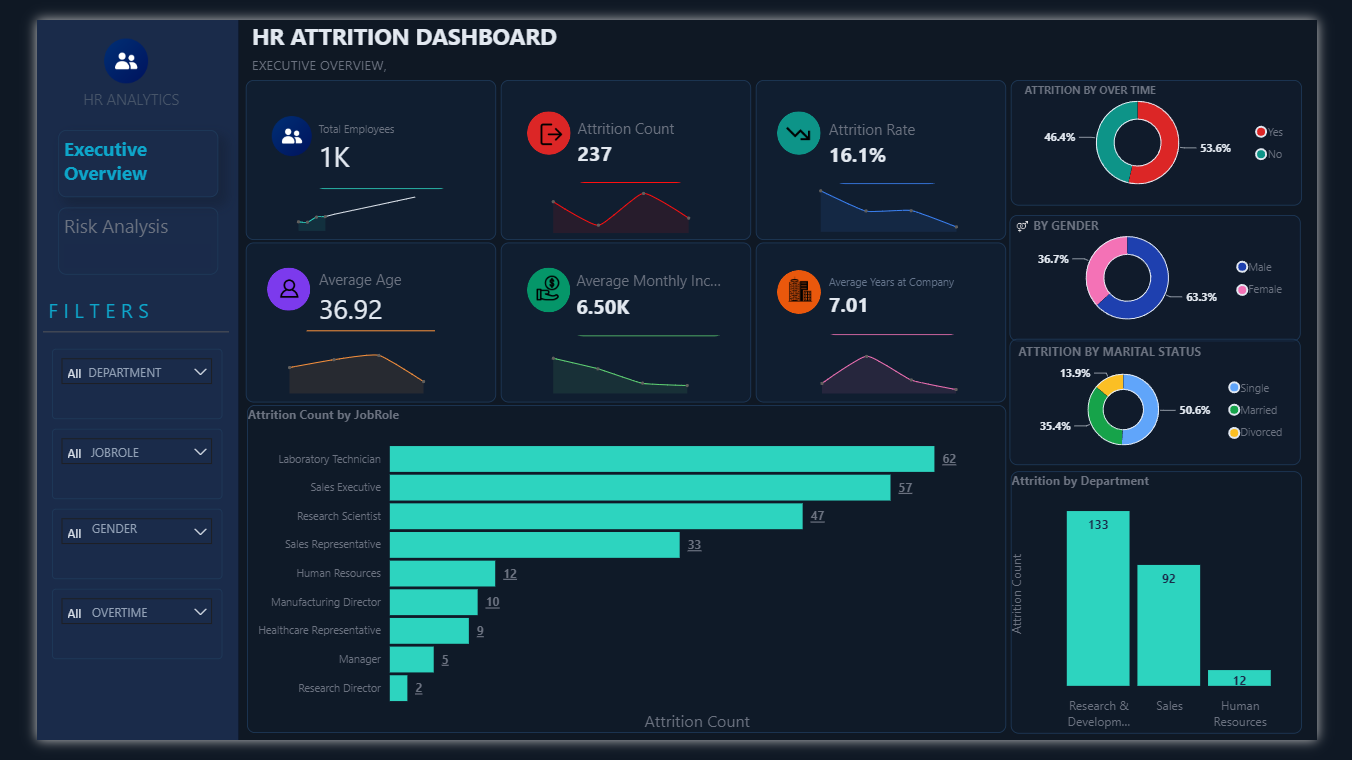

Layout of this report page (visuals, bound fields, positions):
{"tool":"powerbi","page":{"name":"Executive Overview","canvas":[1280,720],"ordinal":0},"visuals":[{"type":"shape","box":[740,91,43.6,43.6],"z":0,"group":"g8"},{"type":"shape","box":[490,91.1,43.6,43.6],"z":0,"group":"g5"},{"type":"shape","box":[719,222.2,250,160],"z":0},{"type":"shape","box":[230,248,43.3,43.3],"z":0,"group":"g6"},{"type":"shape","box":[490,248,43.3,45],"z":0,"group":"g7"},{"type":"shape","box":[740,250.1,44,44],"z":0,"group":"g9"},{"type":"group","id":"g1","title":"Group 6","box":[15.6,328.8,170,70],"z":0,"group":"g10"},{"type":"image","box":[743.2,96.1,35.6,35.6],"z":1000,"group":"g8"},{"type":"image","box":[499.3,98.2,31.4,31.4],"z":1000,"group":"g5"},{"type":"shape","box":[464,222.2,250,160],"z":1000},{"type":"image","box":[742.1,248,41.2,40],"z":1000,"group":"g9"},{"type":"image","box":[494.1,250.5,34.4,35.6],"z":1000,"group":"g7"},{"type":"image","box":[237.2,253.7,30,30],"z":1000,"group":"g6"},{"type":"group","id":"g2","title":"Group 7","box":[15.6,408.4,170,70],"z":1000,"group":"g10"},{"type":"shape","box":[719.3,60.3,250,160],"z":2000},{"type":"group","id":"g3","title":"Group 8","box":[15.6,488.4,170,78.7],"z":2000,"group":"g10"},{"type":"shape","box":[464.3,60.3,250,160],"z":3000},{"type":"group","id":"g4","title":"Group 9","box":[15.6,568.4,170,103.7],"z":3000,"group":"g10"},{"type":"shape","box":[209.3,60.3,250,160],"z":4000},{"type":"cardVisual","fields":{"Data":["Hr_Employ_attrition_cleaned.Attrition Count"]},"box":[512,80,162,83],"z":5000},{"type":"cardVisual","fields":{"Data":["Hr_Employ_attrition_cleaned.Total Employees"]},"box":[273,86,144,83],"z":6000},{"type":"cardVisual","fields":{"Data":["Hr_Employ_attrition_cleaned.Average Monthly Income"]},"box":[511,233,201,84],"z":7000},{"type":"clusteredColumnChart","title":"Attrition by Department","fields":{"Category":["Hr_Employ_attrition_cleaned.Department"],"Y":["Hr_Employ_attrition_cleaned.Attrition Count"]},"box":[974.3,451.7,291,262],"z":8000},{"type":"cardVisual","title":"Average Years at Company","fields":{"Data":["Hr_Employ_attrition_cleaned.Average Years at Company"]},"box":[764,236,183,79],"z":9000},{"type":"donutChart","title":"BY GENDER","fields":{"Category":["Hr_Employ_attrition_cleaned.Gender"],"Y":["Hr_Employ_attrition_cleaned.Attrition Count"]},"box":[972.9,194.6,291,126],"z":10000},{"type":"shape","box":[0,0,201.4,721.4],"z":11000},{"type":"slicer","fields":{"Values":["Hr_Employ_attrition_cleaned.JobRole"]},"box":[15.6,408.4,170,70],"z":12000,"group":"g2"},{"type":"textbox","title":"HR ANALYTICS","box":[41.1,68.9,113.3,50],"z":13000},{"type":"textbox","title":" HR ATTRITION DASHBOARD","box":[209.9,0.3,400,85.6],"z":14000},{"type":"image","box":[17.1,14.3,142.9,54.3],"z":15000},{"type":"textbox","title":"F I L T E R S","box":[6.7,276.1,185.7,48.6],"z":16000},{"type":"slicer","fields":{"Values":["Hr_Employ_attrition_cleaned.Department"]},"box":[15.6,328.8,170,70],"z":17000,"group":"g1"},{"type":"slicer","fields":{"Values":["Hr_Employ_attrition_cleaned.Gender"]},"box":[15.6,488.4,170,70],"z":18000,"group":"g3"},{"type":"slicer","fields":{"Values":["Hr_Employ_attrition_cleaned.OverTime"]},"box":[15.6,568.4,170,70],"z":19000,"group":"g4"},{"type":"cardVisual","fields":{"Data":["Hr_Employ_attrition_cleaned.Attrition Rate"]},"box":[764,81,173,83],"z":20000},{"type":"image","box":[230,91,50,50],"z":21000},{"type":"shape","box":[209.1,222.2,250,160],"z":22000},{"type":"cardVisual","fields":{"Data":["Hr_Employ_attrition_cleaned.Average Age"]},"box":[265,238,138,79],"z":23000},{"type":"lineChart","fields":{"Y":["Hr_Employ_attrition_cleaned.Total Employees"],"Category":["Hr_Employ_attrition_cleaned.JobSatisfaction"]},"box":[242.4,154.9,154.6,56.9],"z":24000},{"type":"lineChart","fields":{"Category":["Hr_Employ_attrition_cleaned.JobSatisfaction"],"Y":["Hr_Employ_attrition_cleaned.Average Years at Company"]},"box":[774.4,317,154,56],"z":25000},{"type":"lineChart","fields":{"Category":["Hr_Employ_attrition_cleaned.JobSatisfaction"],"Y":["Hr_Employ_attrition_cleaned.Average Monthly Income"]},"box":[506.4,317,154,56],"z":26000},{"type":"lineChart","fields":{"Category":["Hr_Employ_attrition_cleaned.JobSatisfaction"],"Y":["Hr_Employ_attrition_cleaned.Average Age"]},"box":[243,317,154,56],"z":27000},{"type":"lineChart","fields":{"Category":["Hr_Employ_attrition_cleaned.JobSatisfaction"],"Y":["Hr_Employ_attrition_cleaned.Attrition Rate"]},"box":[774,155,155.7,57.1],"z":28000},{"type":"lineChart","fields":{"Category":["Hr_Employ_attrition_cleaned.JobSatisfaction"],"Y":["Hr_Employ_attrition_cleaned.Attrition Count"]},"box":[506.3,155.7,155.4,56.9],"z":29000},{"type":"clusteredBarChart","fields":{"Category":["Hr_Employ_attrition_cleaned.JobRole"],"Y":["Hr_Employ_attrition_cleaned.Attrition Count"]},"box":[210.2,385.1,758.9,327.8],"z":30000},{"type":"donutChart","title":"ATTRITION BY MARITAL STATUS","fields":{"Y":["Hr_Employ_attrition_cleaned.Attrition Count"],"Category":["Hr_Employ_attrition_cleaned.MaritalStatus"]},"box":[972.9,318.9,291,126],"z":31000},{"type":"donutChart","title":"ATTRITION BY OVER TIME","fields":{"Y":["Hr_Employ_attrition_cleaned.Attrition Count"],"Category":["Hr_Employ_attrition_cleaned.OverTime"]},"box":[973.2,60.3,291.1,125.6],"z":32000},{"type":"actionButton","title":"Executive Overview","box":[21,109.4,160,67.1],"z":33000},{"type":"actionButton","title":"Risk Analysis","box":[21,188,160,67.1],"z":34000},{"type":"group","id":"g5","title":"Group 1","box":[490,91.1,43.6,43.6],"z":35000},{"type":"group","id":"g6","title":"Group 2","box":[230,248,43.3,43.3],"z":36000},{"type":"group","id":"g7","title":"Group 3","box":[490,248,43.3,45],"z":37000},{"type":"group","id":"g8","title":"Group 4","box":[740,91,43.6,43.6],"z":38000},{"type":"group","id":"g9","title":"Group 5","box":[740,248,44,46.1],"z":39000},{"type":"textbox","title":"ATTRITION BY OVER TIME","box":[982,63,173,43],"z":40000},{"type":"textbox","title":"BY GENDER","box":[991,197,248.9,46.7],"z":41000},{"type":"image","box":[975.4,195.9,21.1,21.1],"z":42000},{"type":"textbox","title":"DEPARTMENT","box":[47.3,344.2,93.3,50],"z":43000,"group":"g1"},{"type":"textbox","title":"JOBROLE","box":[49.7,423.1,71.1,46.7],"z":44000,"group":"g2"},{"type":"textbox","title":"GENDER","box":[50,500.1,71,67],"z":45000,"group":"g3"},{"type":"textbox","title":"OVERTIME","box":[50,583.1,76,89],"z":46000,"group":"g4"},{"type":"group","id":"g10","title":"Group 10","box":[15.6,328.8,170,343.2],"z":46005}]}

Visuals, with their boxes on the page's 1280x720 design canvas (x1, y1, x2, y2). These are canvas units, not pixel positions in the 1352x760 screenshot, which may show the page scaled, cropped or inside an application window:
shape: 740:91:784:135
shape: 490:91:534:135
shape: 719:222:969:382
shape: 230:248:273:291
shape: 490:248:533:293
shape: 740:250:784:294
"Group 6" group: 16:329:186:399
image: 743:96:779:132
image: 499:98:531:130
shape: 464:222:714:382
image: 742:248:783:288
image: 494:250:528:286
image: 237:254:267:284
"Group 7" group: 16:408:186:478
shape: 719:60:969:220
"Group 8" group: 16:488:186:567
shape: 464:60:714:220
"Group 9" group: 16:568:186:672
shape: 209:60:459:220
cardVisual - Hr_Employ_attrition_cleaned.Attrition Count: 512:80:674:163
cardVisual - Hr_Employ_attrition_cleaned.Total Employees: 273:86:417:169
cardVisual - Hr_Employ_attrition_cleaned.Average Monthly Income: 511:233:712:317
"Attrition by Department" clusteredColumnChart: 974:452:1265:714
"Average Years at Company" cardVisual: 764:236:947:315
"BY GENDER" donutChart: 973:195:1264:321
shape: 0:0:201:721
slicer - Hr_Employ_attrition_cleaned.JobRole: 16:408:186:478
"HR ANALYTICS" textbox: 41:69:154:119
" HR ATTRITION DASHBOARD" textbox: 210:0:610:86
image: 17:14:160:69
"F I L T E R S" textbox: 7:276:192:325
slicer - Hr_Employ_attrition_cleaned.Department: 16:329:186:399
slicer - Hr_Employ_attrition_cleaned.Gender: 16:488:186:558
slicer - Hr_Employ_attrition_cleaned.OverTime: 16:568:186:638
cardVisual - Hr_Employ_attrition_cleaned.Attrition Rate: 764:81:937:164
image: 230:91:280:141
shape: 209:222:459:382
cardVisual - Hr_Employ_attrition_cleaned.Average Age: 265:238:403:317
lineChart - Hr_Employ_attrition_cleaned.Total Employees x Hr_Employ_attrition_cleaned.JobSatisfaction: 242:155:397:212
lineChart - Hr_Employ_attrition_cleaned.JobSatisfaction x Hr_Employ_attrition_cleaned.Average Years at Company: 774:317:928:373
lineChart - Hr_Employ_attrition_cleaned.JobSatisfaction x Hr_Employ_attrition_cleaned.Average Monthly Income: 506:317:660:373
lineChart - Hr_Employ_attrition_cleaned.JobSatisfaction x Hr_Employ_attrition_cleaned.Average Age: 243:317:397:373
lineChart - Hr_Employ_attrition_cleaned.JobSatisfaction x Hr_Employ_attrition_cleaned.Attrition Rate: 774:155:930:212
lineChart - Hr_Employ_attrition_cleaned.JobSatisfaction x Hr_Employ_attrition_cleaned.Attrition Count: 506:156:662:213
clusteredBarChart - Hr_Employ_attrition_cleaned.JobRole x Hr_Employ_attrition_cleaned.Attrition Count: 210:385:969:713
"ATTRITION BY MARITAL STATUS" donutChart: 973:319:1264:445
"ATTRITION BY OVER TIME" donutChart: 973:60:1264:186
"Executive Overview" actionButton: 21:109:181:176
"Risk Analysis" actionButton: 21:188:181:255
"Group 1" group: 490:91:534:135
"Group 2" group: 230:248:273:291
"Group 3" group: 490:248:533:293
"Group 4" group: 740:91:784:135
"Group 5" group: 740:248:784:294
"ATTRITION BY OVER TIME" textbox: 982:63:1155:106
"BY GENDER" textbox: 991:197:1240:244
image: 975:196:996:217
"DEPARTMENT" textbox: 47:344:141:394
"JOBROLE" textbox: 50:423:121:470
"GENDER" textbox: 50:500:121:567
"OVERTIME" textbox: 50:583:126:672
"Group 10" group: 16:329:186:672
